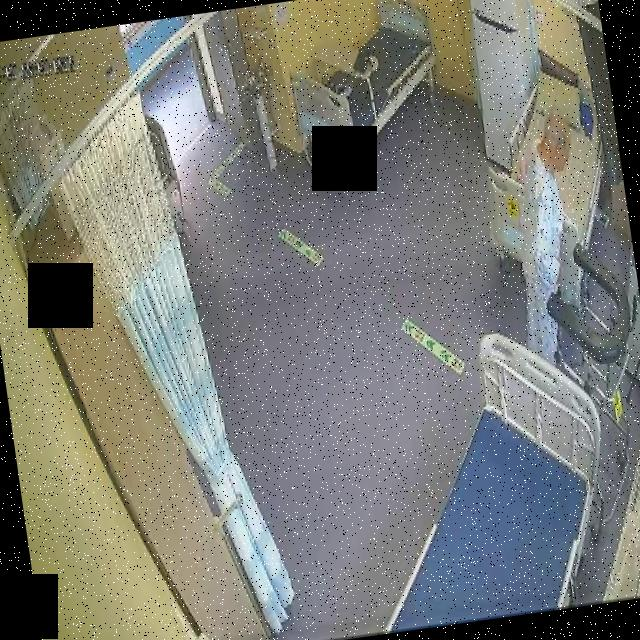bed: (348, 322, 625, 632), (464, 55, 624, 301), (279, 0, 451, 175)
patient: (495, 108, 601, 346)
